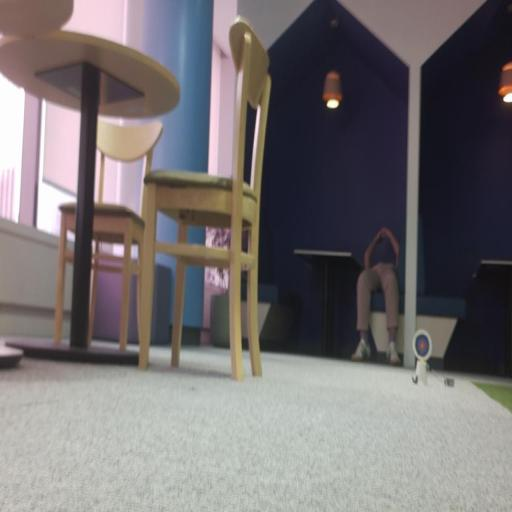target: (413, 329, 432, 361)
